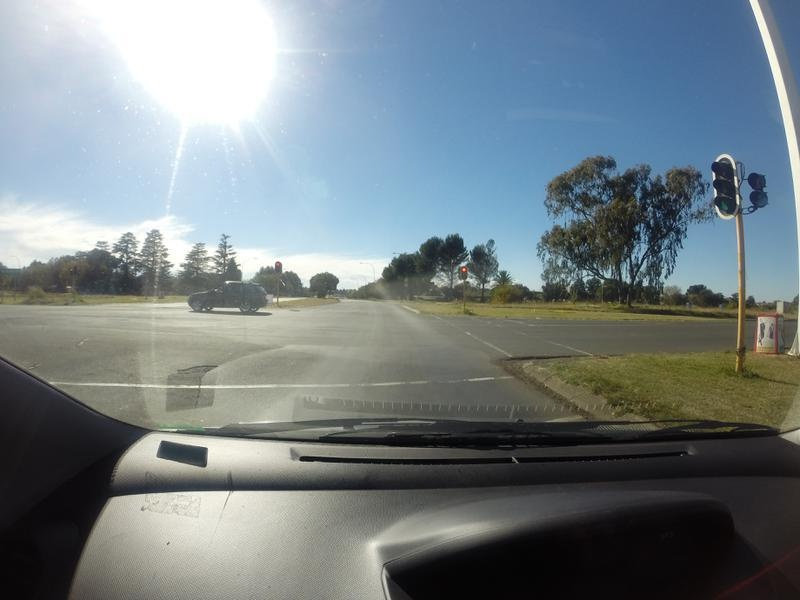pothole: (150, 354, 219, 392)
